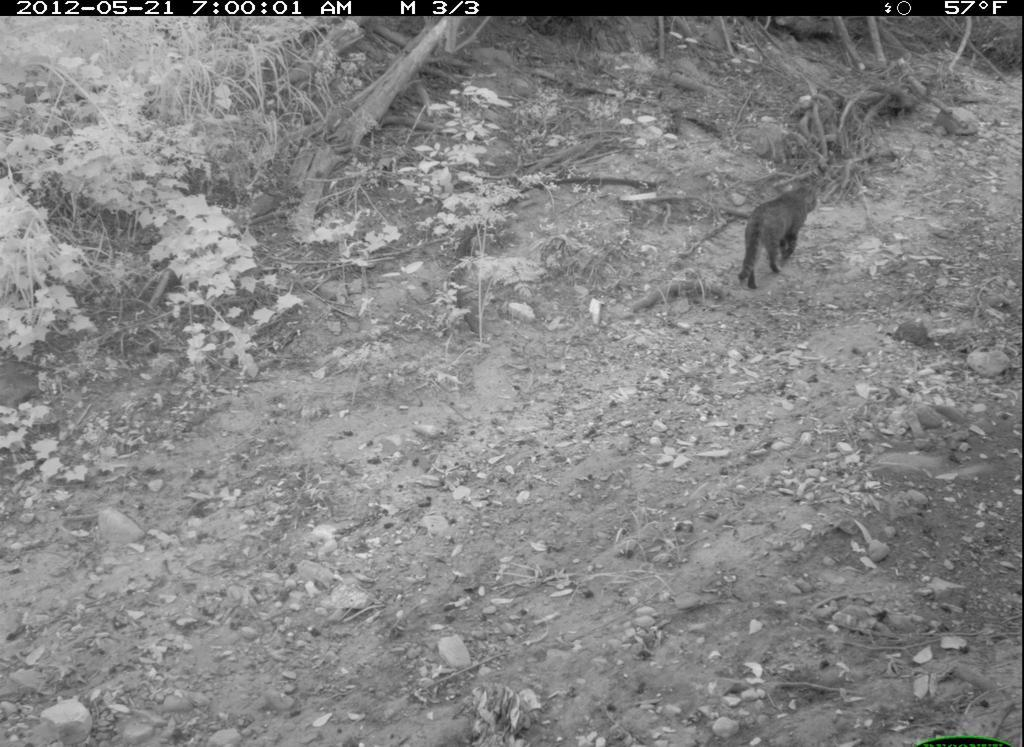cat: (731, 175, 826, 296)
